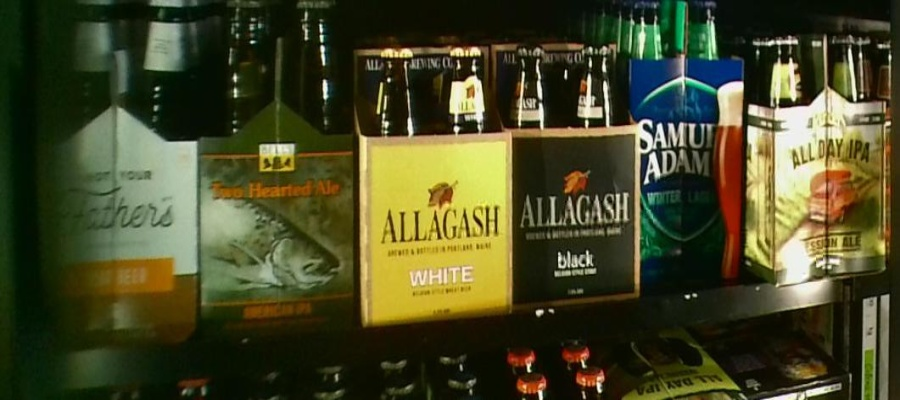bottle: (197, 2, 361, 340), (40, 1, 200, 347), (360, 43, 515, 328), (750, 19, 886, 288), (510, 38, 645, 308), (645, 1, 747, 283)
